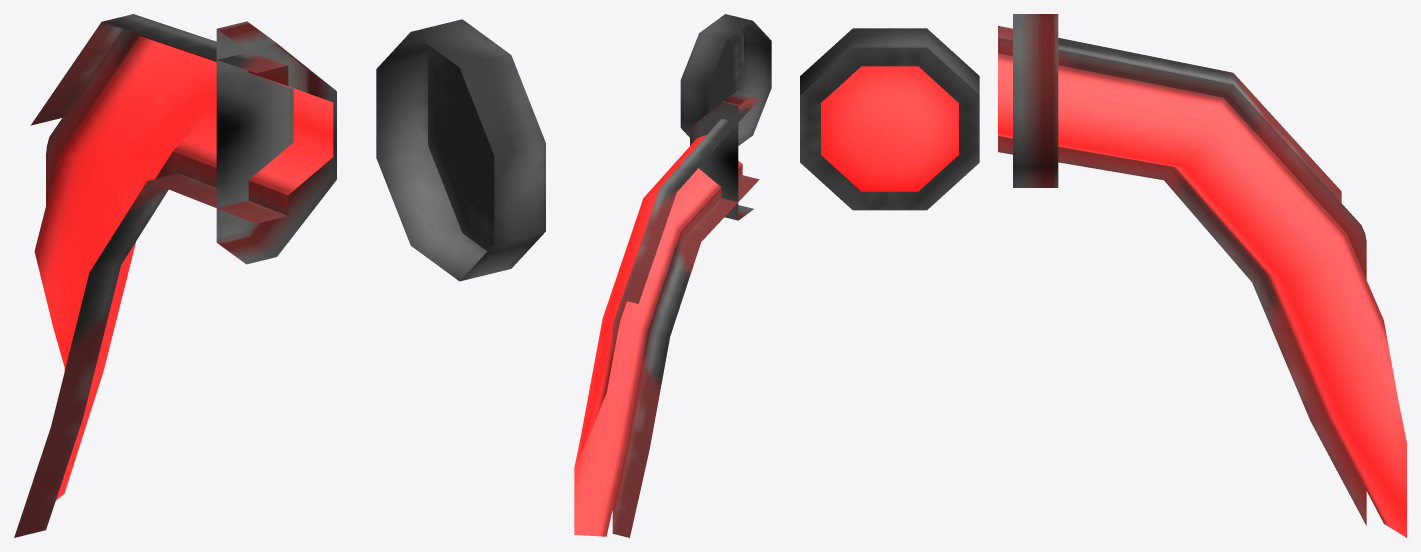
Rendered from VR_DoorLock_3.fbx.
The picture shows the model from 3 angles, left to right: view 1: azimuth 30°, elevation 25°; view 2: azimuth 150°, elevation 25°; view 3: azimuth 270°, elevation 25°; orthographic projection. The views are drawn at different scales.
Parts seen in each view (by area): view 1: Circle.009; view 2: Circle.009; view 3: Circle.009.
Boxes of the visible parts, x1,y1,x2,y2 form: Circle.009: (14,14,545,537); Circle.009: (574,14,771,537); Circle.009: (800,14,1406,537).
Size of the model in its own units: 0.2867 by 1.07 by 1.12.
